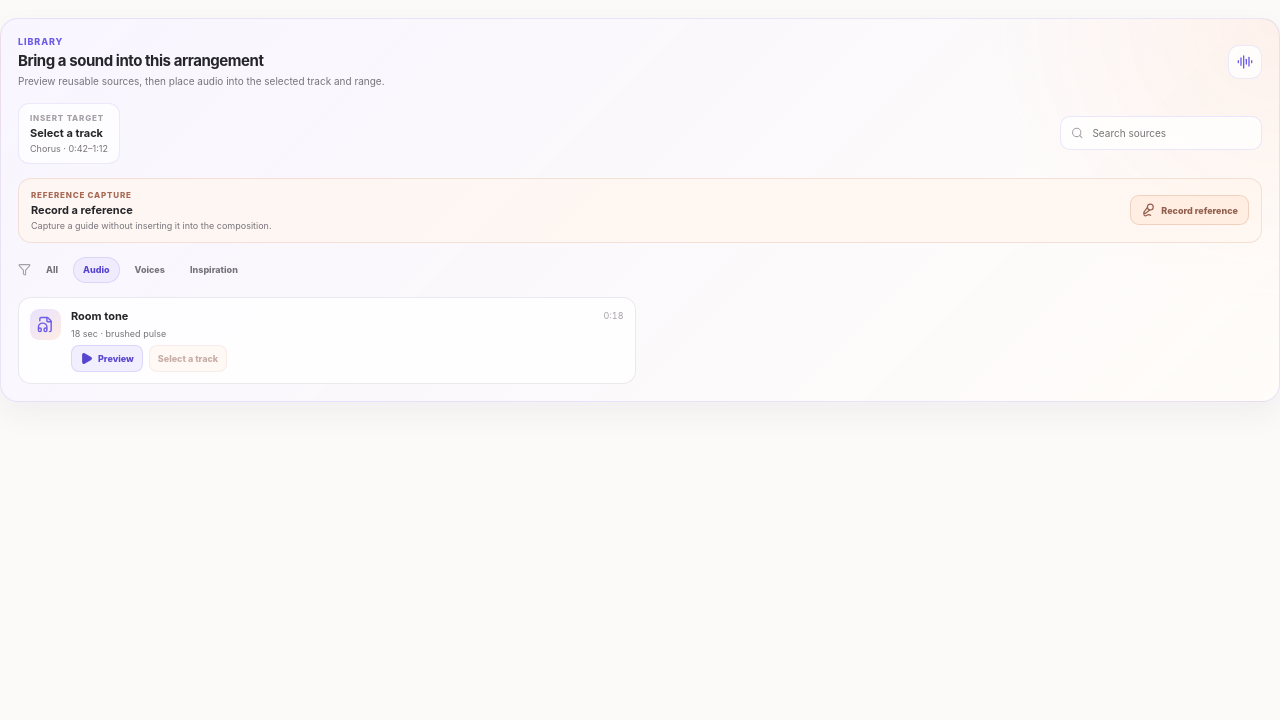
StudioAssetDock › filters sources and keeps non-audio references visibly non-insertable
The width and height of the screenshot is (1280, 720).
Click the button "Voices" at (150, 270), box left=124, top=256, right=175, bottom=282
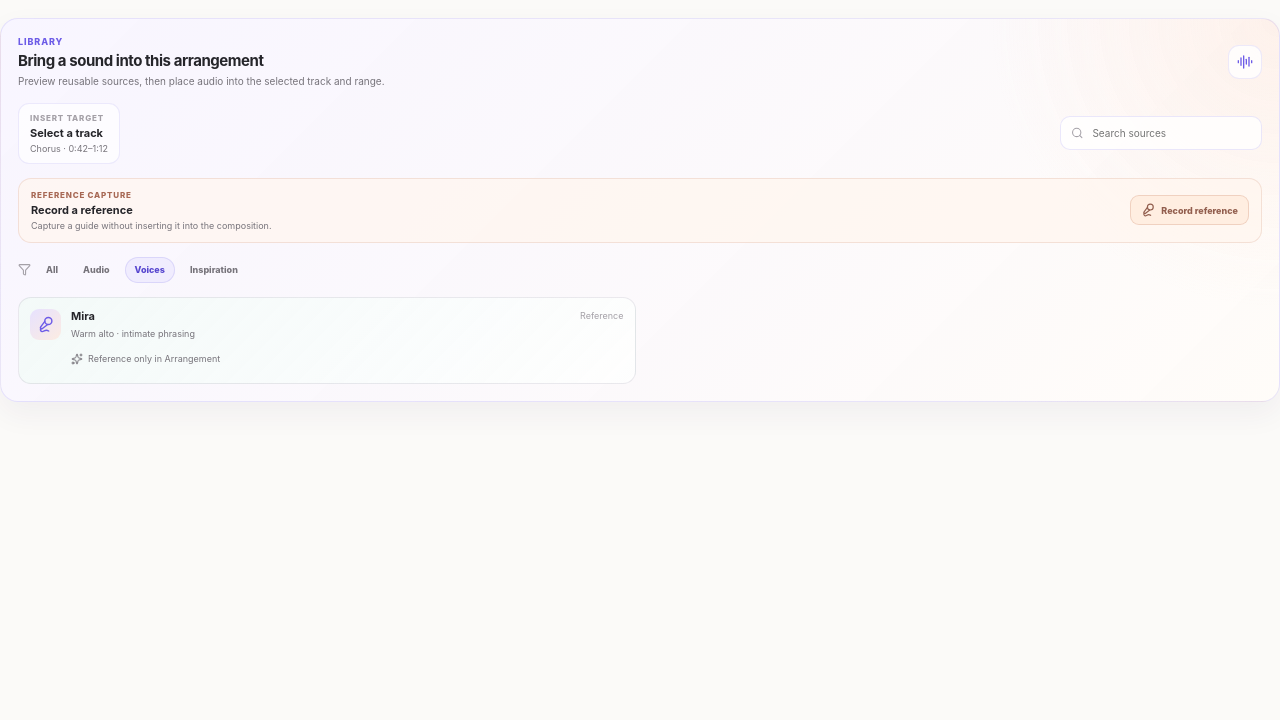
Expected: the heading "Mira" is shown, left=71, top=308, right=95, bottom=322
Expected: the text "Reference only in Arrangement" is shown, left=71, top=353, right=220, bottom=365
Click the button "All" at (52, 270), box left=36, top=256, right=68, bottom=282
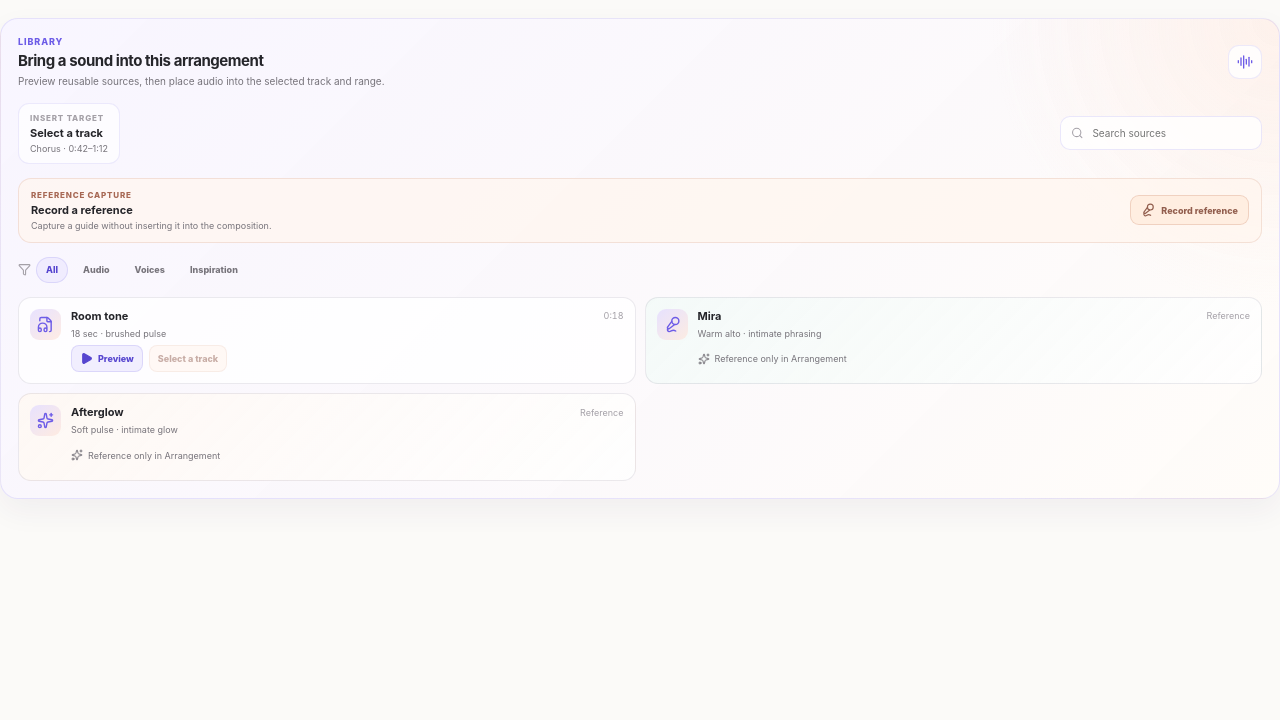
Type "afterglow" into the search field named "Search creative sources" at (1171, 133), box left=1090, top=126, right=1251, bottom=140
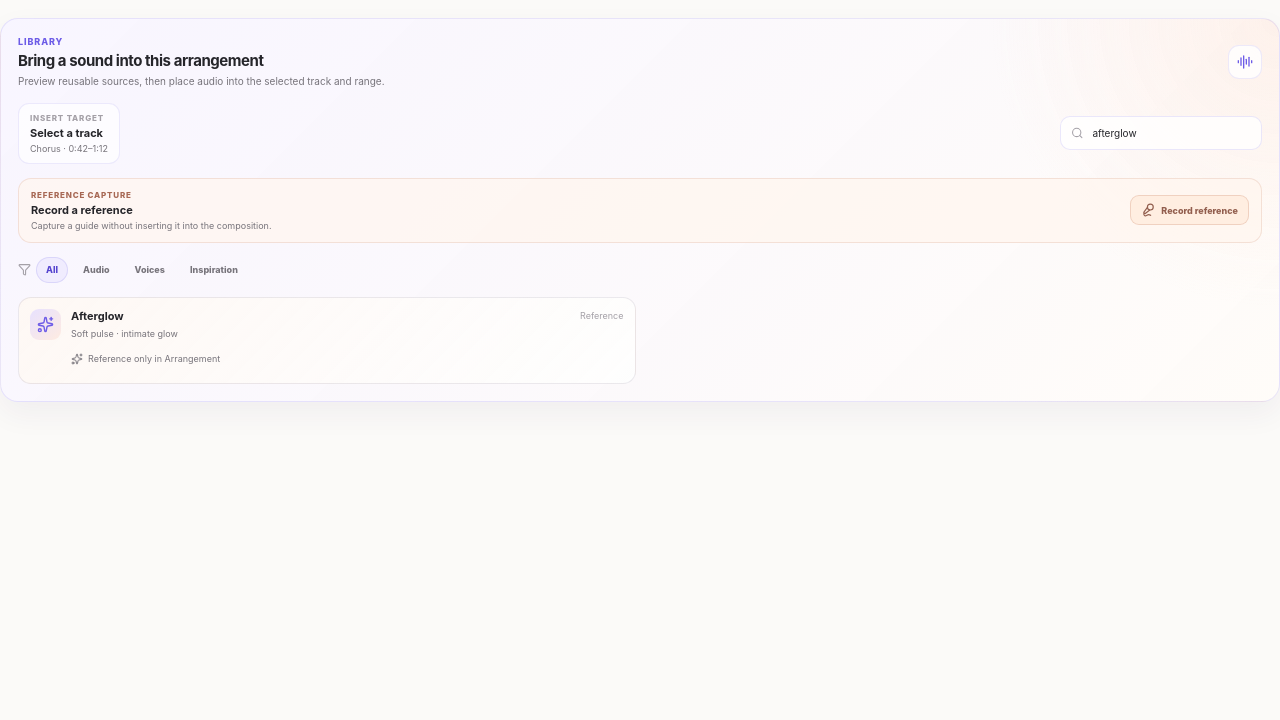
Expected: the heading "Afterglow" is shown, left=71, top=308, right=124, bottom=322
Expected: the heading "Room tone" is gone
